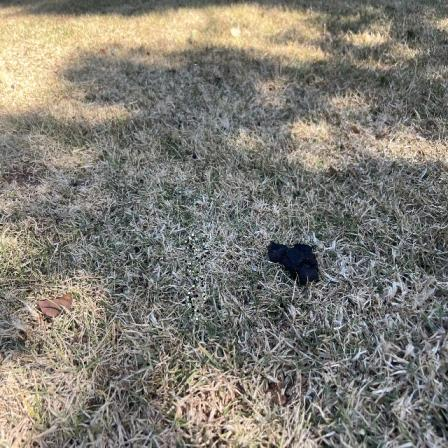dog-poop: (259, 242, 339, 290)
